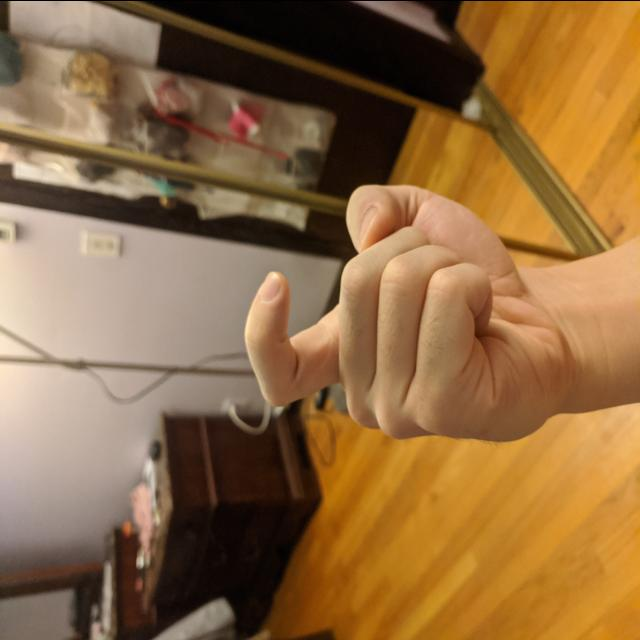X: (241, 174, 557, 446)
